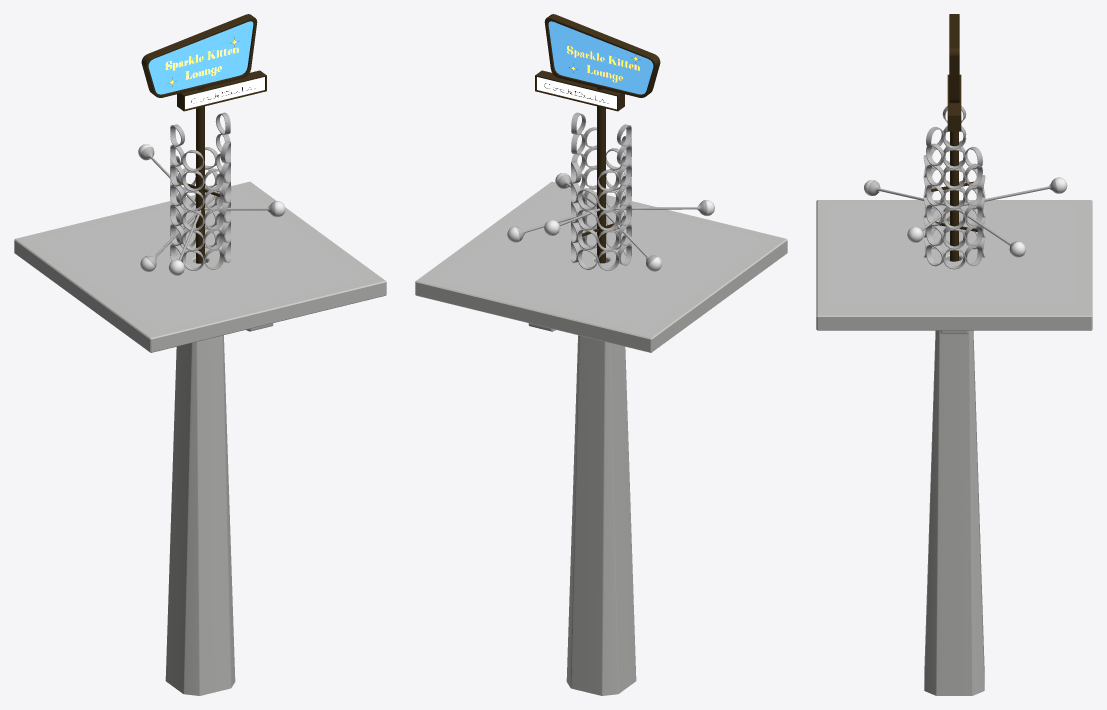
File: PlatformHazard4Arm.fbx
3 renders of one model, left to right at view 1: azimuth 30°, elevation 25°; view 2: azimuth 150°, elevation 25°; view 3: azimuth 270°, elevation 25°, orthographic.
Parts seen in each view (by area): view 1: PlatformHazard4Arm_Floor, SignTop, SignCage, SignCocktails, SignPole; view 2: PlatformHazard4Arm_Floor, SignTop, SignCage, SignCocktails, SignPole; view 3: PlatformHazard4Arm_Floor, SignCage, SignPole, SignTop, SignCocktails, SignArm1.
Part boxes in pixels (bbox=[...]): PlatformHazard4Arm_Floor: bbox=[14, 181, 386, 695]; SignTop: bbox=[141, 14, 257, 97]; SignCage: bbox=[170, 112, 230, 270]; SignCocktails: bbox=[177, 70, 266, 111]; SignPole: bbox=[180, 87, 219, 263]; PlatformHazard4Arm_Floor: bbox=[415, 181, 787, 695]; SignTop: bbox=[544, 14, 660, 97]; SignCage: bbox=[571, 112, 631, 270]; SignCocktails: bbox=[535, 70, 624, 111]; SignPole: bbox=[582, 87, 621, 263]; PlatformHazard4Arm_Floor: bbox=[816, 200, 1092, 695]; SignCage: bbox=[923, 106, 985, 269]; SignPole: bbox=[931, 131, 977, 261]; SignTop: bbox=[949, 14, 959, 103]; SignCocktails: bbox=[947, 74, 961, 131]; SignArm1: bbox=[959, 177, 1067, 205].
Bounding box in the file's own units: 500 × 1318 × 500.
